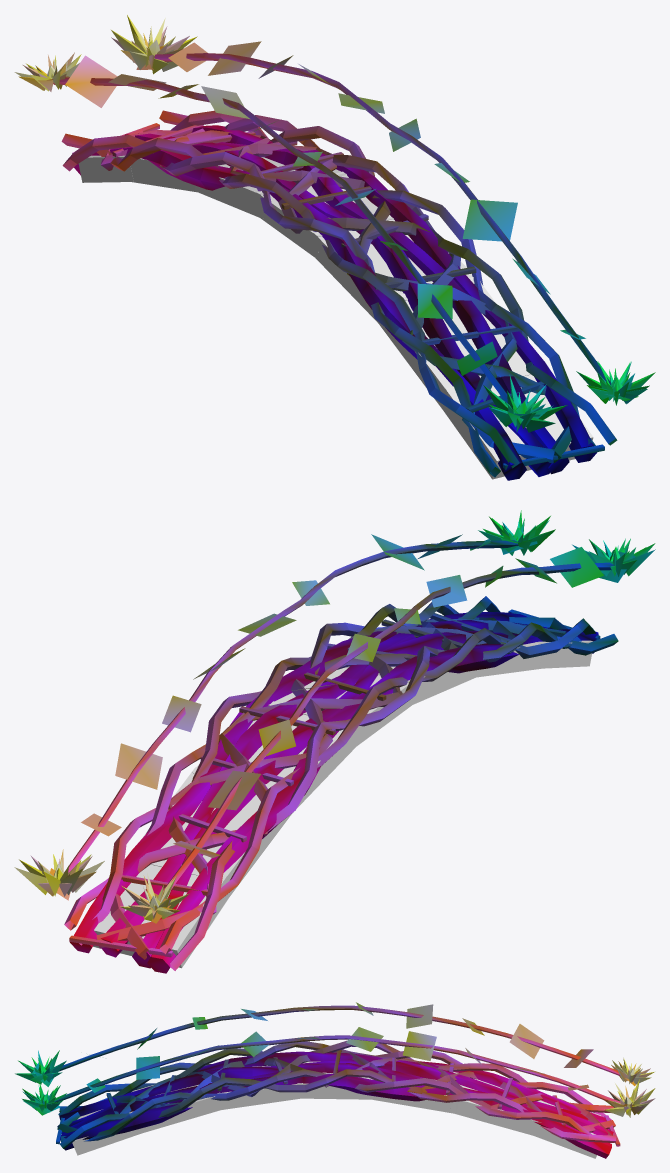
File: Plant_Bridge_06.fbx
3 renders of one model, top to bottom at view 1: azimuth 30°, elevation 25°; view 2: azimuth 150°, elevation 25°; view 3: azimuth 270°, elevation 25°, orthographic. The views are drawn at different scales.
Parts seen in each view (by area): view 1: Plant_Bridge_06, COL_06_0, COL_06_1, COL_06_2, COL_06_4, COL_06_3, COL_06_5, COL_06_6; view 2: Plant_Bridge_06, COL_06_6, COL_06_5, COL_06_4, COL_06_3, COL_06_2, COL_06_0, COL_06_1; view 3: Plant_Bridge_06, COL_06_5, COL_06_1, COL_06_2, COL_06_3, COL_06_0, COL_06_4, COL_06_6.
Part boxes in pixels (x1,y1,x2,y2): Plant_Bridge_06: [14, 15, 655, 480]; COL_06_0: [440, 368, 593, 479]; COL_06_1: [380, 277, 530, 409]; COL_06_2: [311, 215, 480, 325]; COL_06_4: [195, 145, 346, 218]; COL_06_3: [256, 171, 393, 259]; COL_06_5: [126, 158, 196, 192]; COL_06_6: [78, 155, 133, 182]; Plant_Bridge_06: [14, 510, 655, 973]; COL_06_6: [93, 860, 231, 968]; COL_06_5: [141, 767, 291, 897]; COL_06_4: [191, 701, 359, 815]; COL_06_3: [268, 667, 415, 748]; COL_06_2: [347, 666, 478, 706]; COL_06_0: [536, 640, 592, 668]; COL_06_1: [477, 641, 545, 677]; Plant_Bridge_06: [15, 1002, 655, 1158]; COL_06_5: [449, 1072, 542, 1136]; COL_06_1: [130, 1084, 224, 1134]; COL_06_2: [214, 1065, 303, 1110]; COL_06_3: [297, 1055, 375, 1099]; COL_06_0: [72, 1090, 138, 1155]; COL_06_4: [370, 1055, 458, 1113]; COL_06_6: [535, 1100, 600, 1158].
Size of the model in its own units: 2.39 by 2.59 by 11.91.
